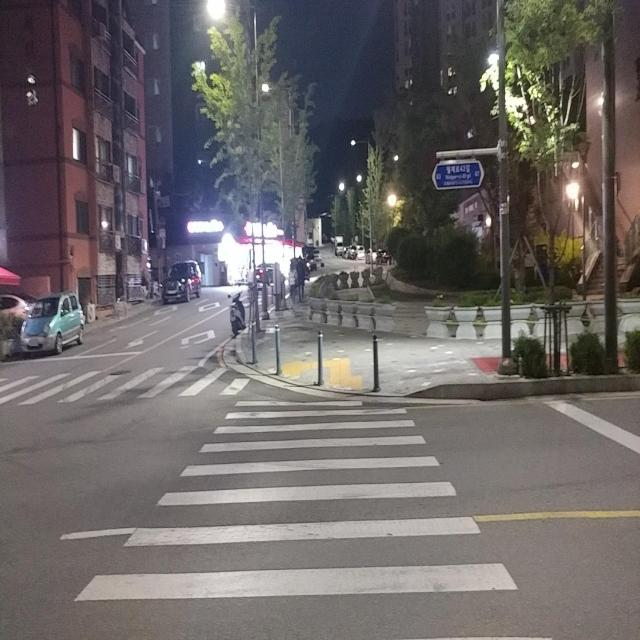횡단보도: (72, 398, 518, 640), (0, 373, 253, 404)
